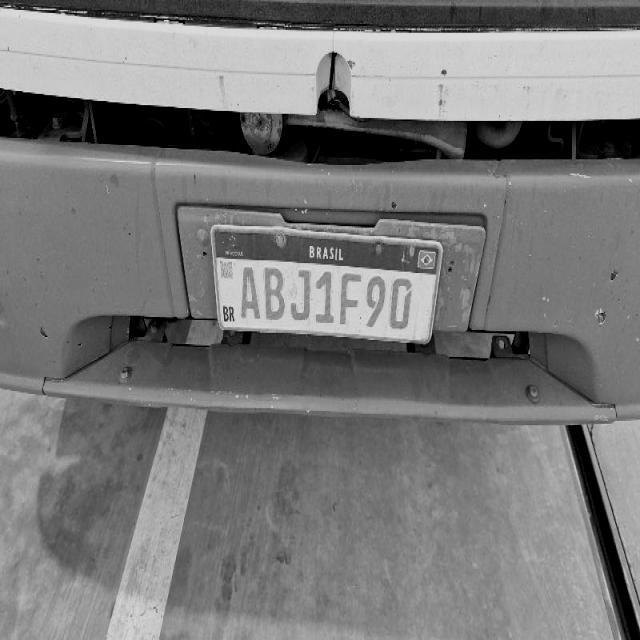placa_mercosul: (211, 225, 442, 341)
